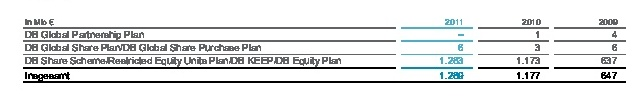table: (0, 0, 643, 96)
